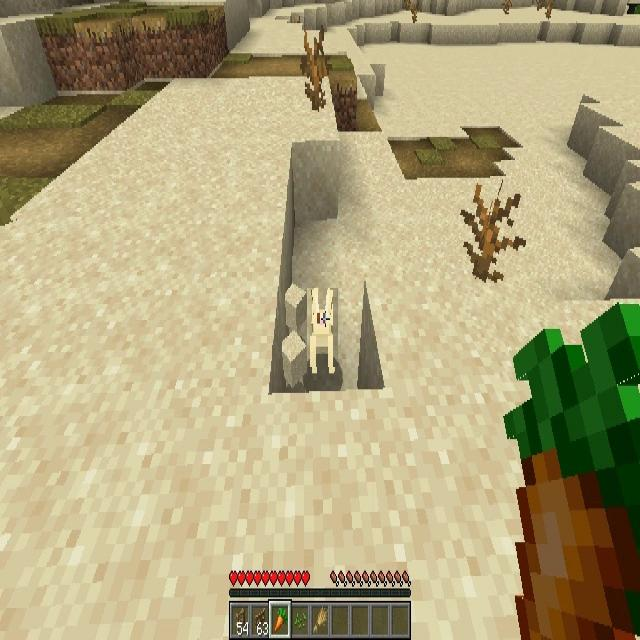rabbit: (307, 288, 338, 367)
